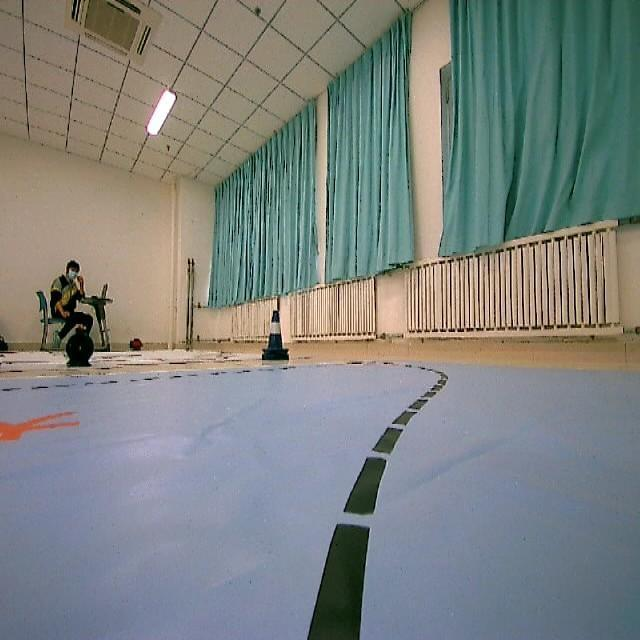obstacle: (260, 310, 296, 375)
